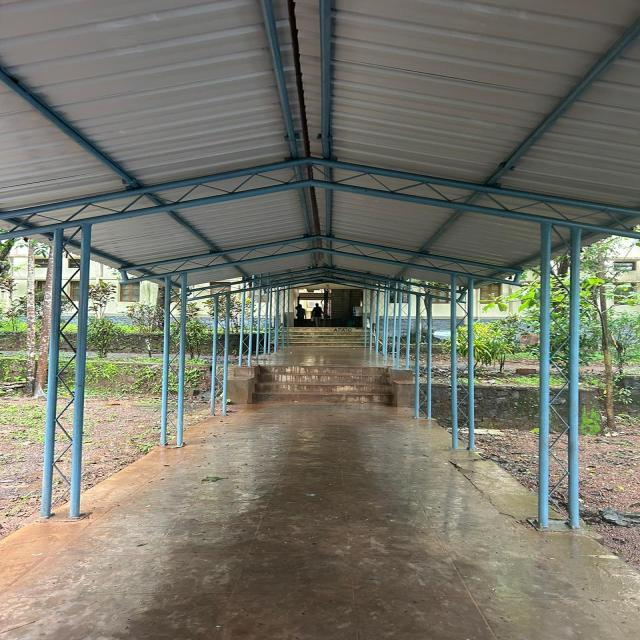pillar ahead at: (525, 214, 596, 540), (34, 227, 92, 524), (441, 269, 480, 461), (156, 269, 190, 450)
stairs ahead at: (255, 366, 394, 403)
